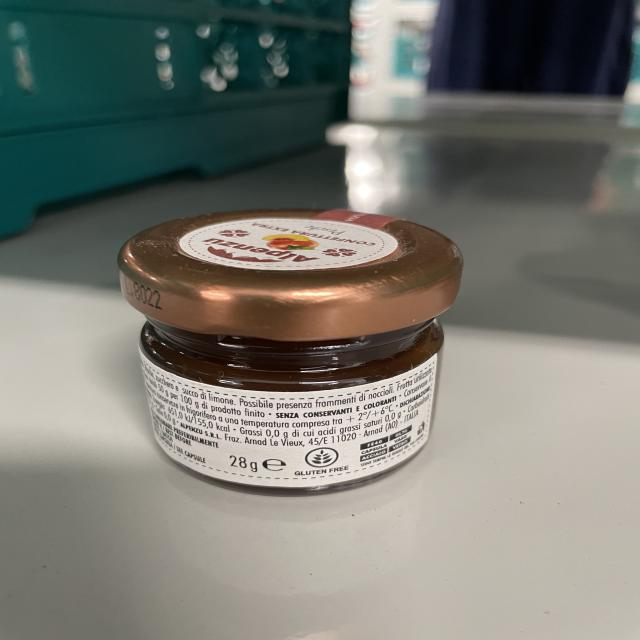object_name: (121, 222, 457, 497)
